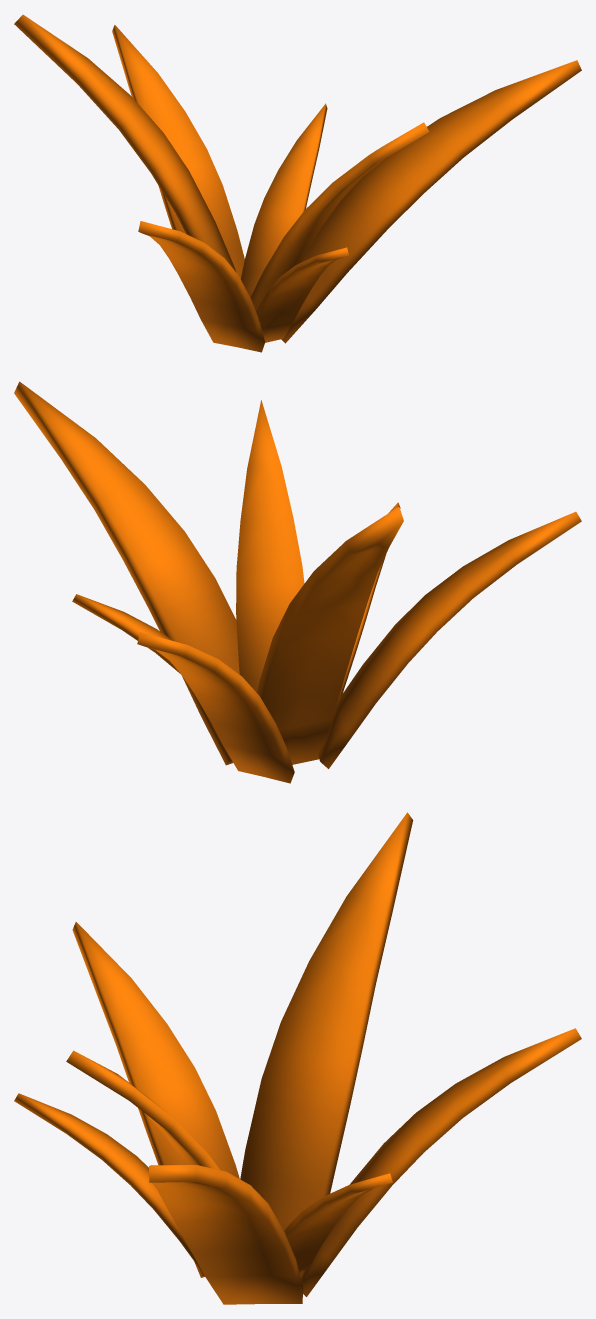
File: Grass_01.1.fbx
3 views of the same model, one above another, from view 1: azimuth 30°, elevation 25°; view 2: azimuth 150°, elevation 25°; view 3: azimuth 270°, elevation 25° (orthographic). The views are drawn at different scales.
Parts seen in each view (by area): view 1: Grass_01.1; view 2: Grass_01.1; view 3: Grass_01.1.
Part boxes in pixels (<box>): Grass_01.1: <box>14,14,581,352</box>; Grass_01.1: <box>14,381,581,783</box>; Grass_01.1: <box>14,812,581,1304</box>.
Size of the model in its own units: 76.94 by 66.16 by 49.26.
